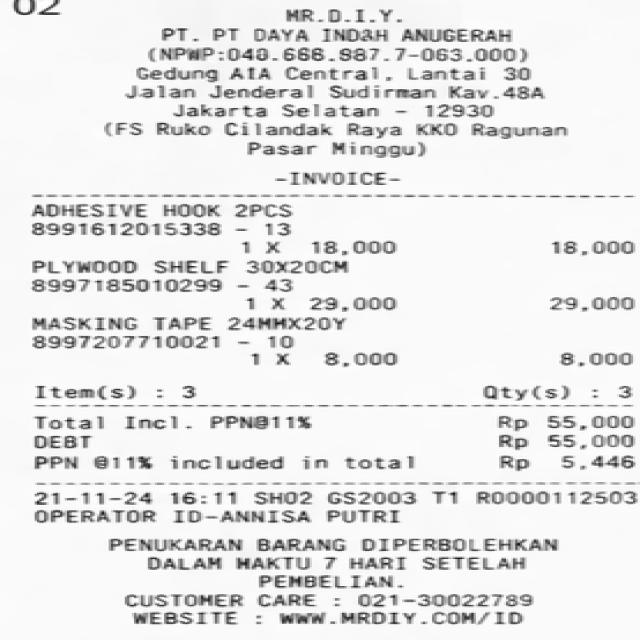date: (34, 490, 247, 506)
store: (277, 5, 403, 27)
total: (21, 411, 640, 434)
